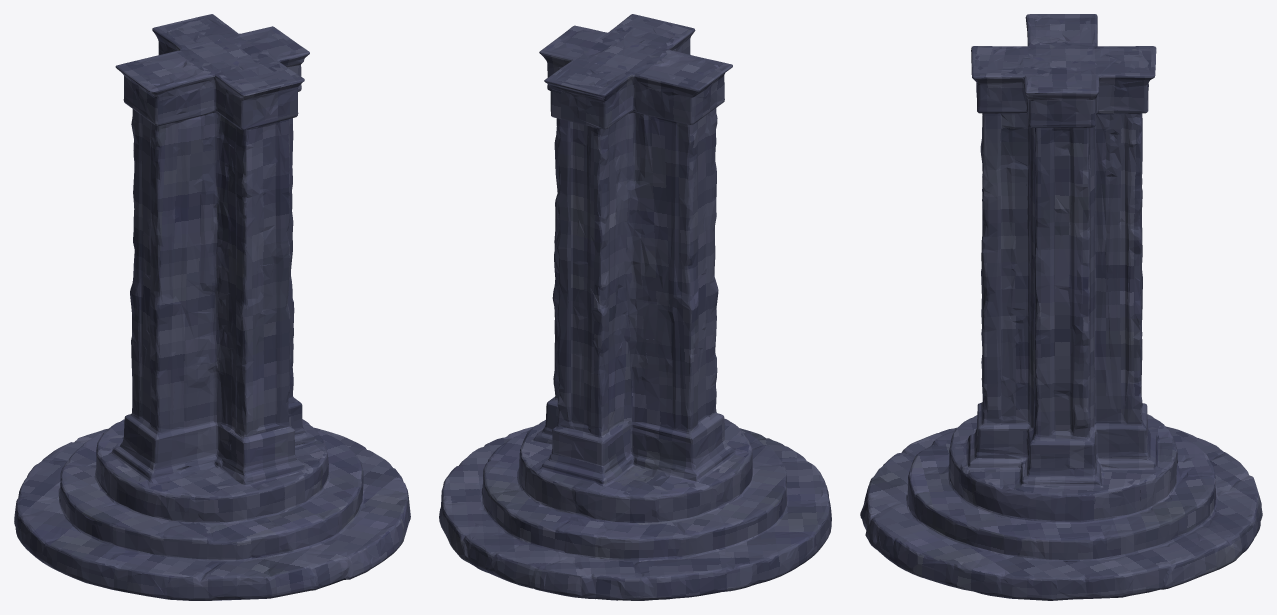
Rendered from solitude-pillar-1.collider.glb.
3 views of the same model, side by side, from view 1: azimuth 30°, elevation 25°; view 2: azimuth 150°, elevation 25°; view 3: azimuth 270°, elevation 25° (orthographic).
Parts seen in each view (by area): view 1: temp_mesh.ply; view 2: temp_mesh.ply; view 3: temp_mesh.ply.
Part boxes in pixels (x1,y1,x2,y2): temp_mesh.ply: (14,14,410,600); temp_mesh.ply: (439,14,831,600); temp_mesh.ply: (860,14,1262,600).
Bounding box in the file's own units: 1.54 × 1.97 × 1.54.
1 material, 1 textured.
